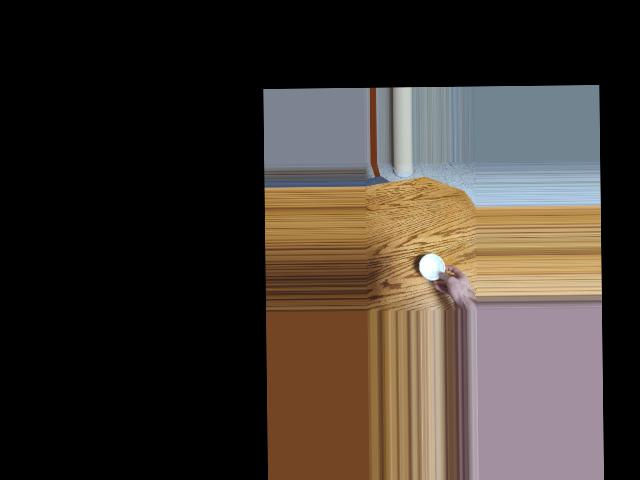cotage: (417, 253, 445, 281)
